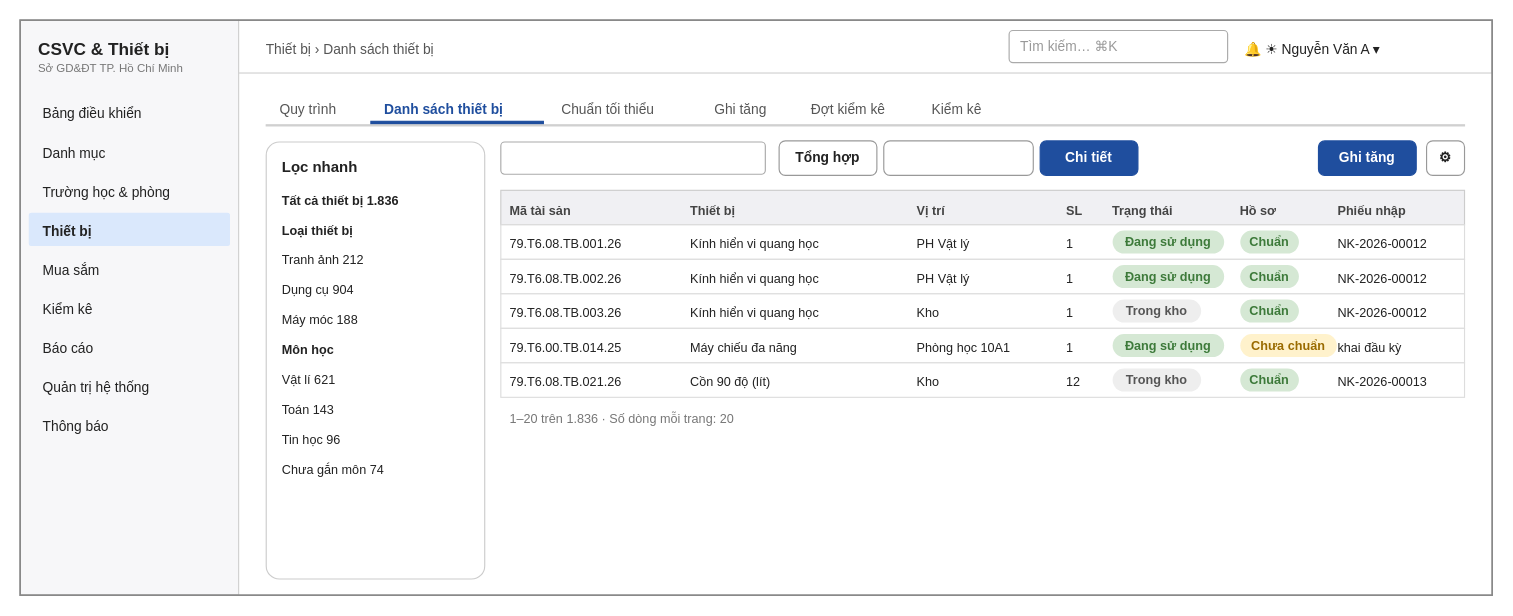
Some shapes in this 1513 by 616 pixel diagram are drawn without their labels. The shapes that lost their labels are listed below. From the top down, each one's centre as x and y in pixels, then its label:
pixel 632 157: Tìm theo tên hoặc mã thiết bị…
pixel 958 157: Theo kho/phòng
